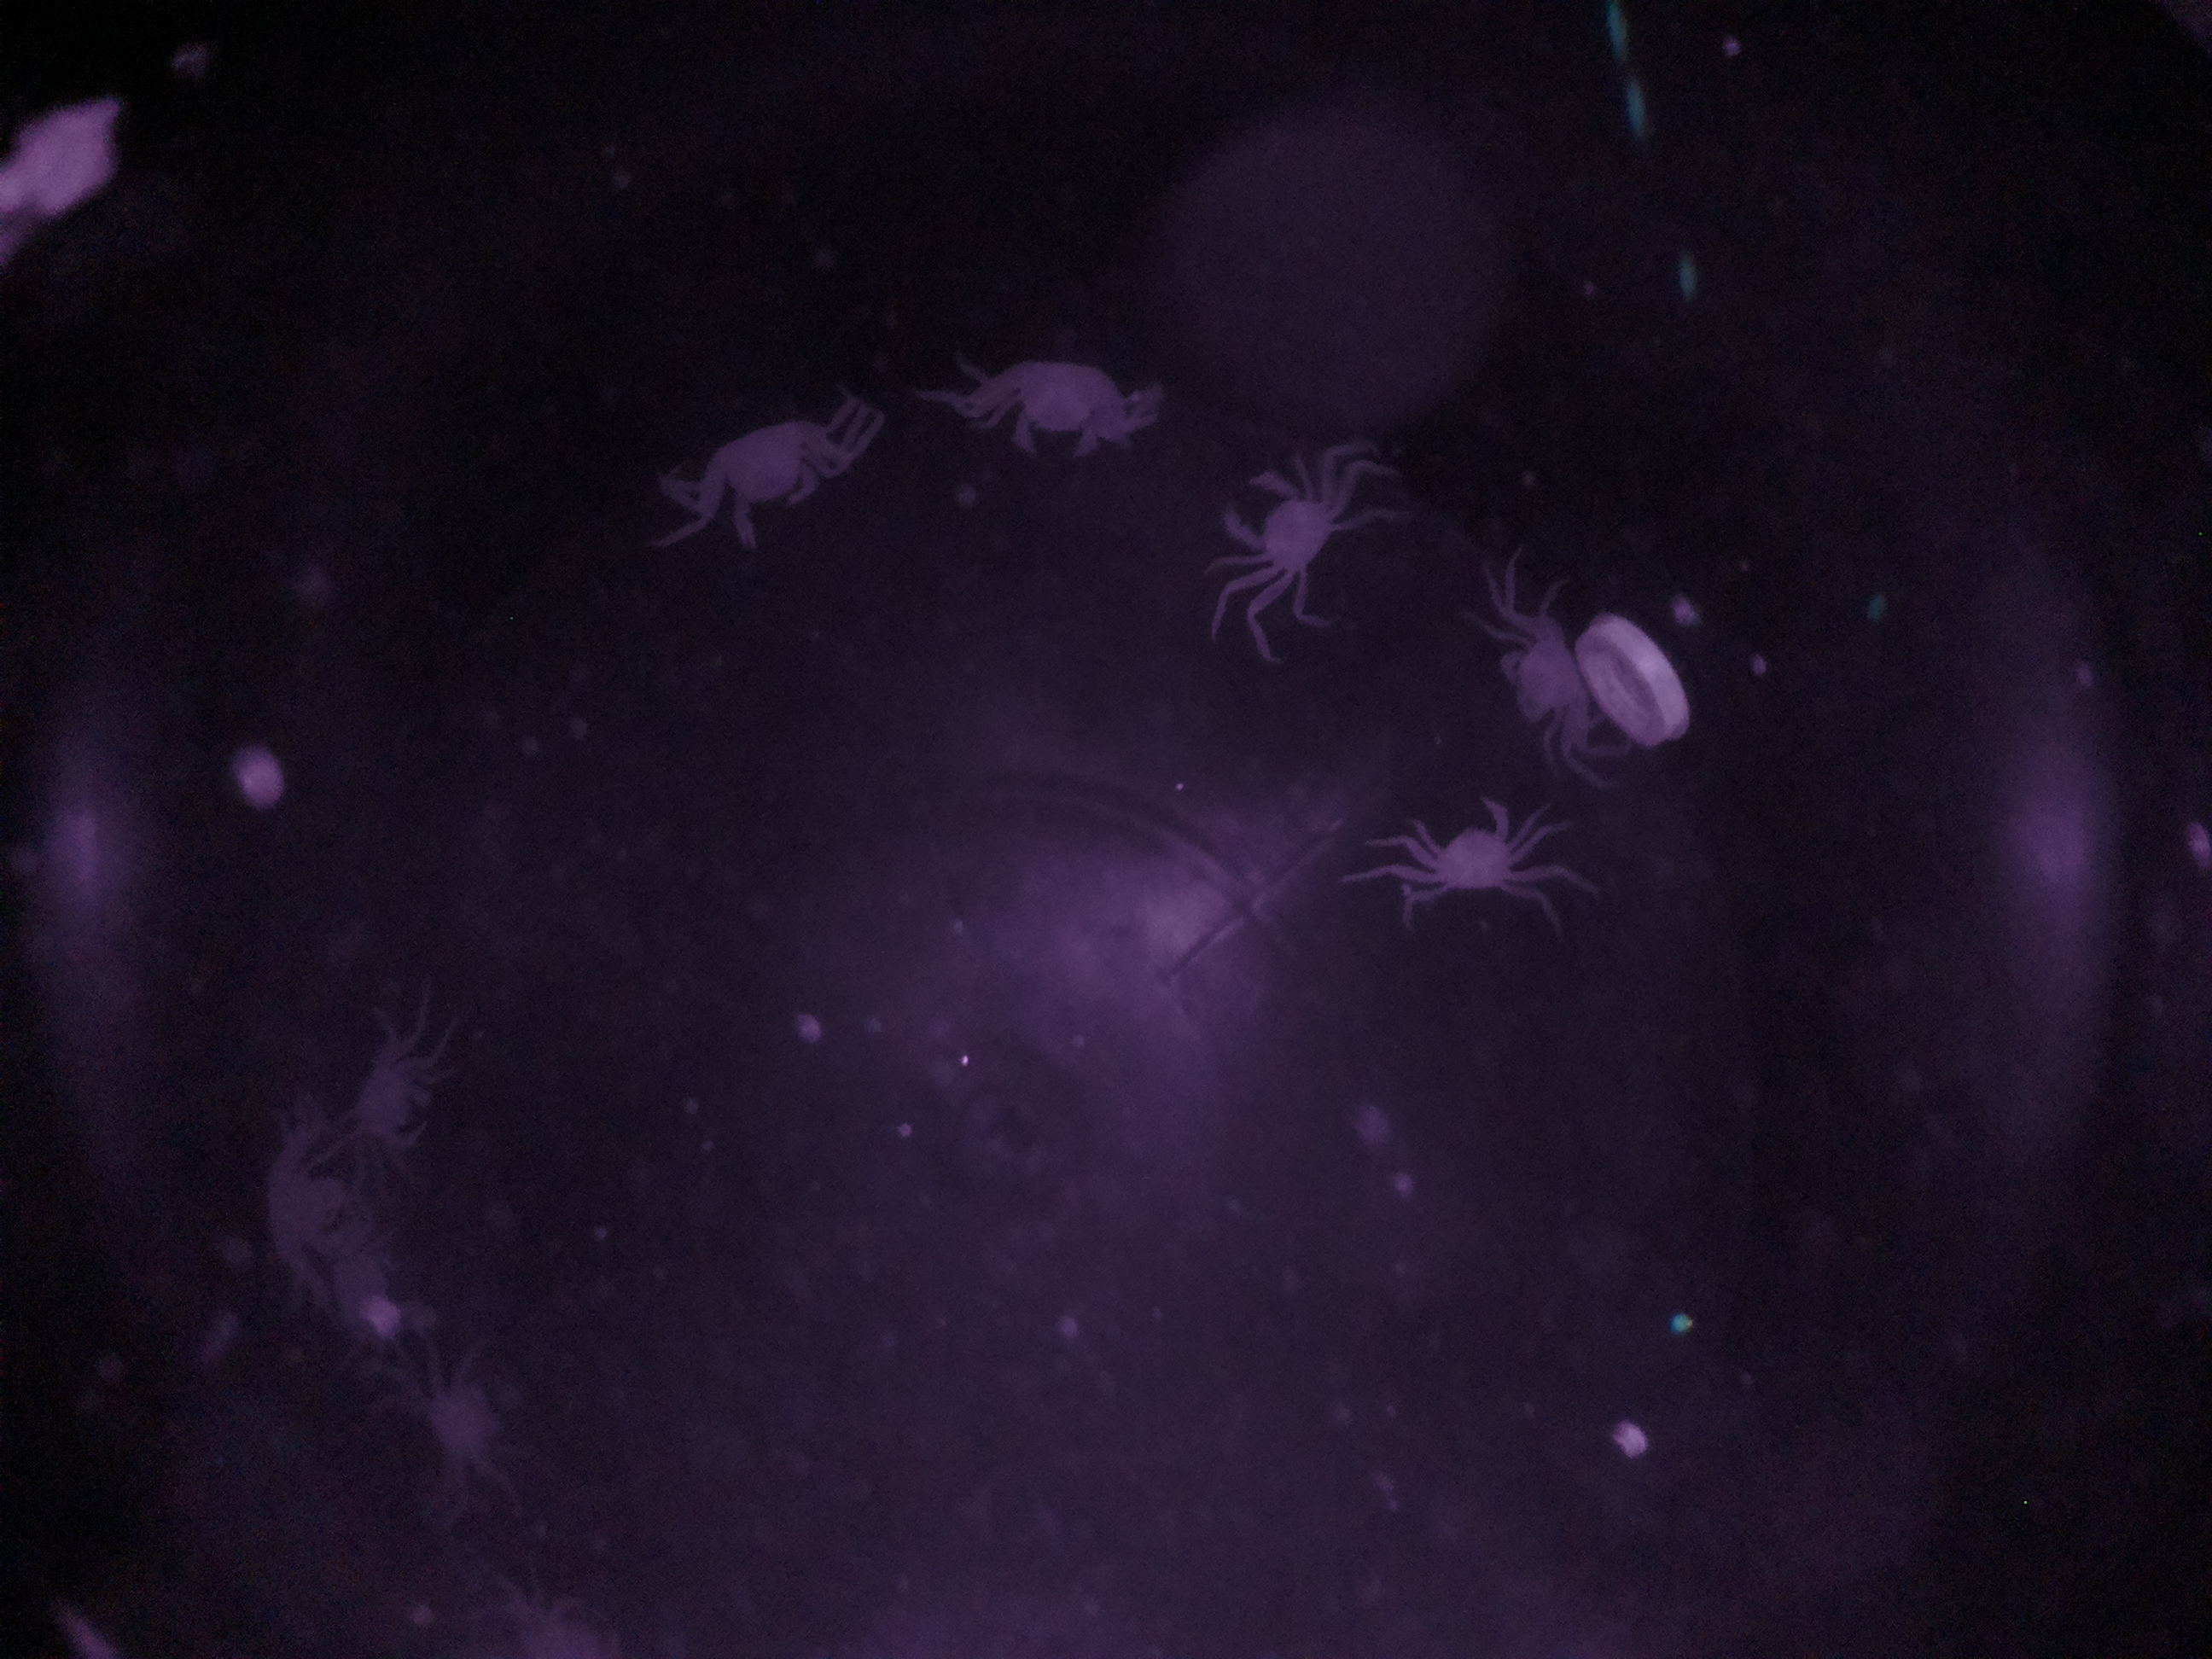Crab: (681, 387, 846, 565), (1197, 453, 1376, 605), (968, 331, 1139, 469), (1392, 781, 1543, 927), (1467, 606, 1611, 742)
